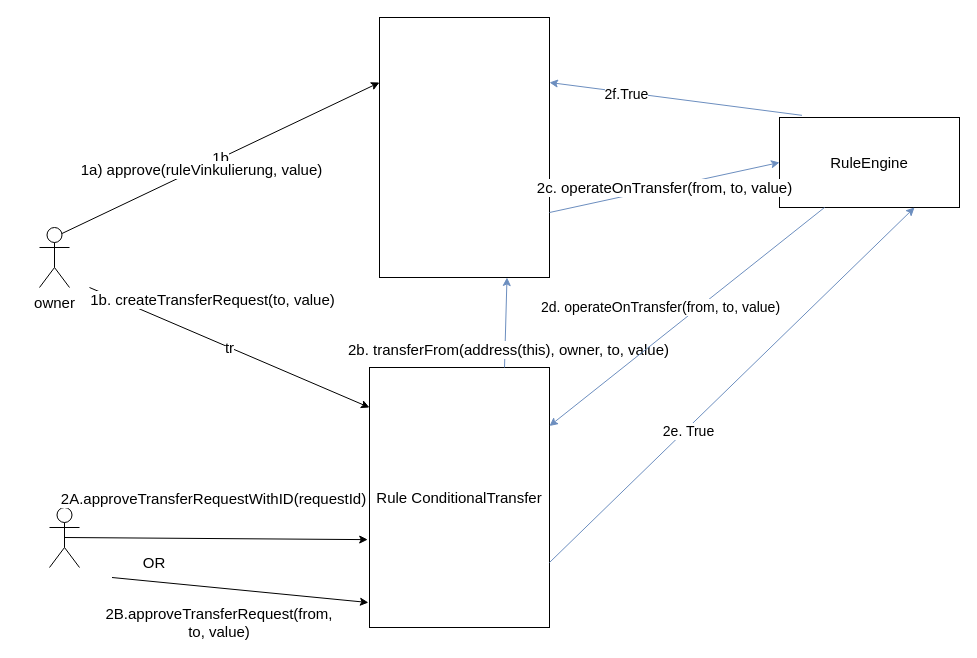
Image size: 977x658. Some labels were removed from this diagram. Each missing label, with the box of its shape:
CMTAT: (378, 16, 550, 278)
Rule Operator: (48, 506, 80, 568)
